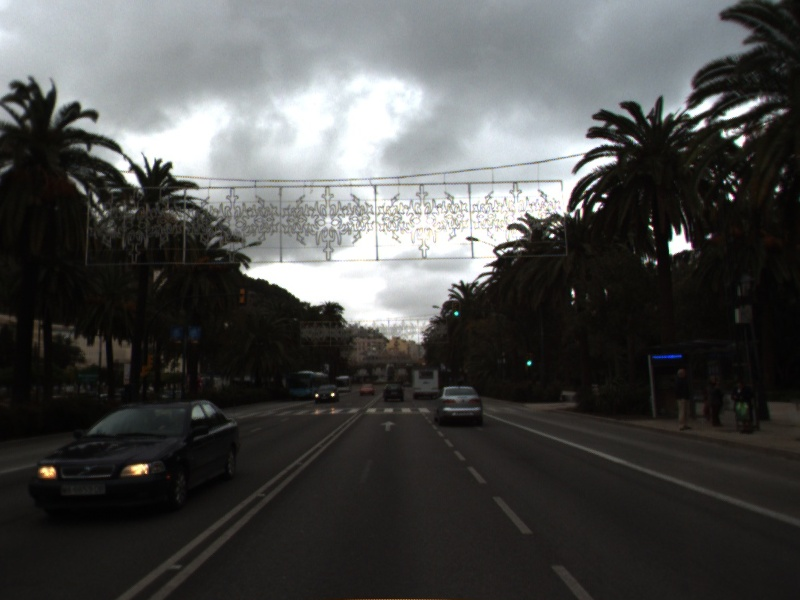STRAIGHT: (378, 419, 399, 433)
